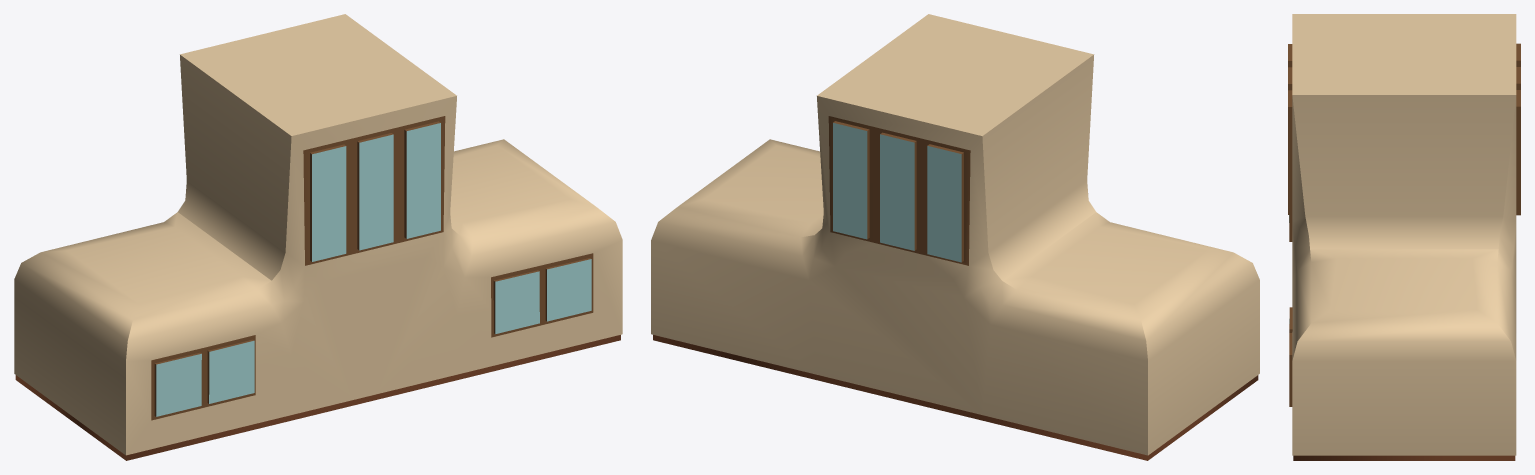
Rendered from Sala_panel_d.fbx.
3 renders of one model, left to right at view 1: azimuth 30°, elevation 25°; view 2: azimuth 150°, elevation 25°; view 3: azimuth 270°, elevation 25°, orthographic.
Visible parts, largest first — view 1: Sala_panel_d; view 2: Sala_panel_d; view 3: Sala_panel_d.
Part boxes in pixels (box(x1,y1,x2,y2)): Sala_panel_d: box(14, 14, 622, 460); Sala_panel_d: box(651, 14, 1259, 460); Sala_panel_d: box(1288, 14, 1520, 460).
Size of the model in its own units: 2620 by 1436 by 1061.
